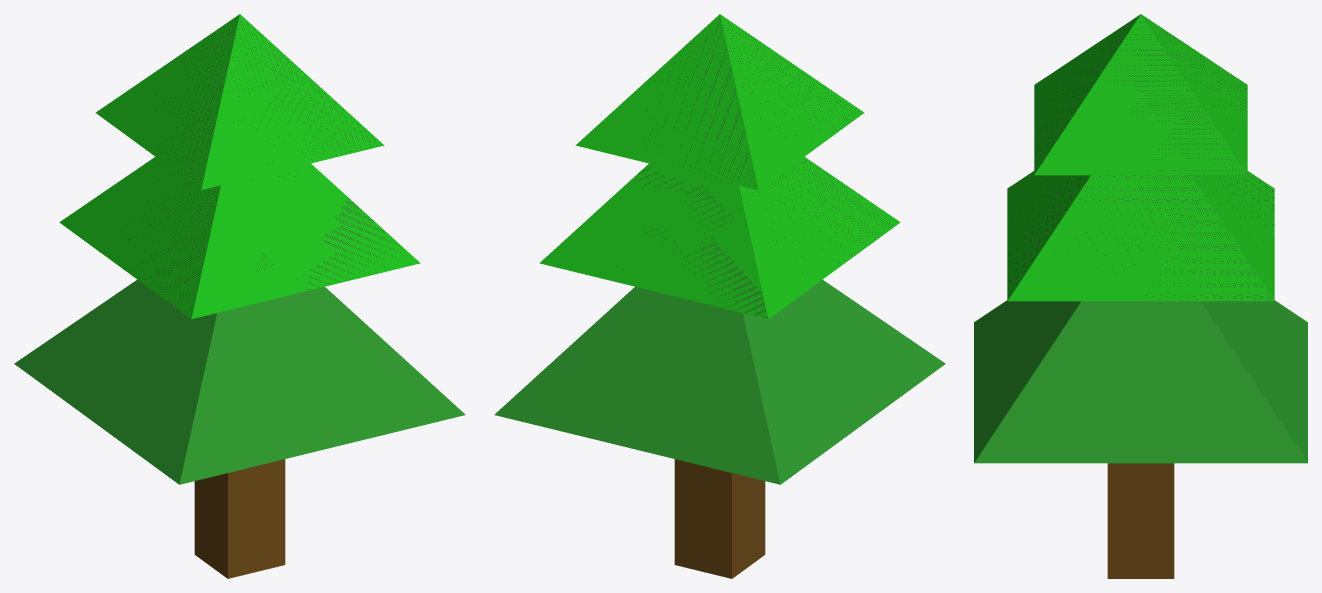
The model's file is tree.glb.
3 views of the same model, side by side, from view 1: azimuth 30°, elevation 25°; view 2: azimuth 150°, elevation 25°; view 3: azimuth 270°, elevation 25° (orthographic).
Visible parts, largest first — view 1: Spruce; view 2: Spruce; view 3: Spruce.
Boxes of the visible parts, x1,y1,x2,y2 form: Spruce: [14, 14, 465, 578]; Spruce: [494, 14, 945, 578]; Spruce: [974, 14, 1307, 578].
Bounding box in the file's own units: 2 × 3.64 × 2.
1 material, 1 textured.
